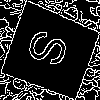S: (25, 26, 78, 74)
